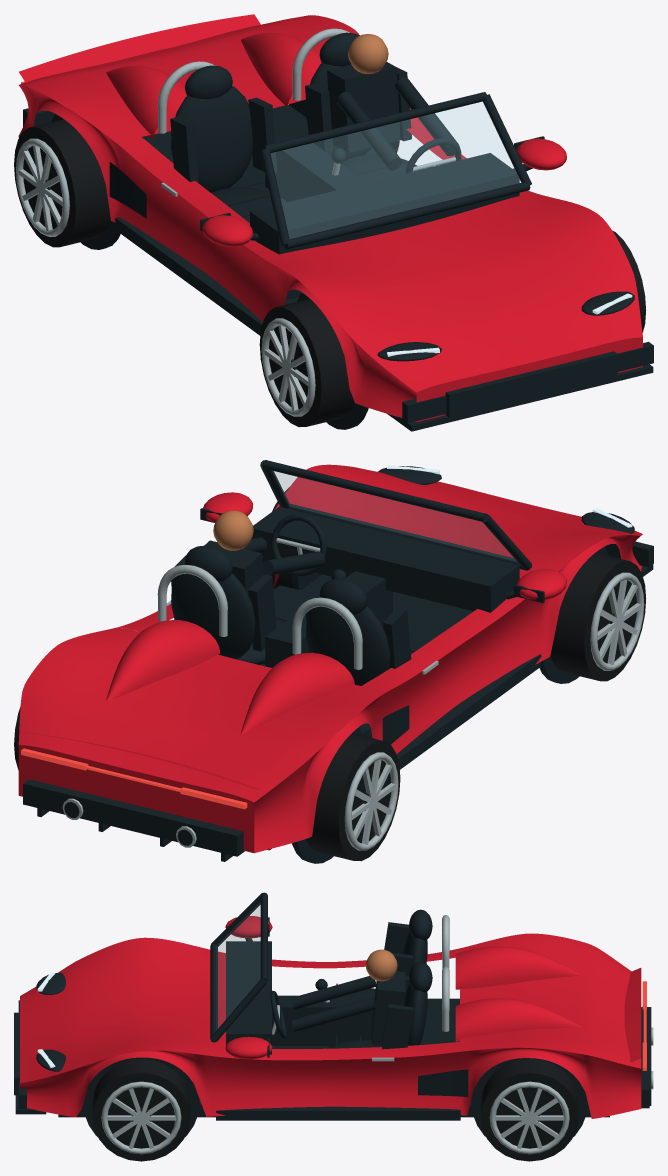
The model's file is roadster.candidate.inspection.glb.
3 renders of one model, top to bottom at view 1: azimuth 30°, elevation 25°; view 2: azimuth 150°, elevation 25°; view 3: azimuth 270°, elevation 25°, orthographic. The views are drawn at different scales.
Visible parts, largest first — view 1: roadster/paint, roadster/dark, roadster/glass, roadster/seat-upholstery, roadster/tire-rubber (×3), open-roadster, roadster/driver-clothing, roadster/metal, roadster/driver-skin; view 2: roadster/paint, roadster/dark, roadster/seat-upholstery, roadster/tire-rubber (×2), roadster/glass, open-roadster, roadster/metal, roadster/driver-clothing, roadster/tail, roadster/driver-skin; view 3: roadster/paint, roadster/dark, roadster/tire-rubber (×2), open-roadster, roadster/seat-upholstery, roadster/glass, roadster/driver-clothing, roadster/metal, roadster/driver-skin, roadster/tail.
Boxes of the visible parts, left/top/right/bottom form: roadster/paint: left=18, top=14, right=642, bottom=421; roadster/dark: left=23, top=92, right=653, bottom=431; roadster/glass: left=271, top=102, right=520, bottom=238; roadster/seat-upholstery: left=170, top=32, right=416, bottom=222; roadster/tire-rubber (×3): left=14, top=119, right=646, bottom=427; open-roadster: left=16, top=138, right=315, bottom=416; roadster/driver-clothing: left=327, top=61, right=460, bottom=170; roadster/metal: left=157, top=28, right=456, bottom=196; roadster/driver-skin: left=348, top=34, right=388, bottom=74; roadster/paint: left=18, top=464, right=642, bottom=853; roadster/dark: left=23, top=460, right=653, bottom=863; roadster/seat-upholstery: left=171, top=545, right=415, bottom=685; roadster/tire-rubber (×2): left=306, top=553, right=646, bottom=861; roadster/glass: left=272, top=471, right=516, bottom=561; open-roadster: left=344, top=572, right=644, bottom=850; roadster/metal: left=62, top=538, right=438, bottom=847; roadster/driver-clothing: left=204, top=537, right=325, bottom=594; roadster/tail: left=21, top=748, right=247, bottom=809; roadster/driver-skin: left=213, top=510, right=253, bottom=550; roadster/paint: left=20, top=915, right=641, bottom=1118; roadster/dark: left=14, top=892, right=651, bottom=1137; roadster/tire-rubber (×2): left=92, top=1058, right=578, bottom=1161; open-roadster: left=101, top=1081, right=569, bottom=1154; roadster/seat-upholstery: left=327, top=909, right=432, bottom=1049; roadster/glass: left=216, top=902, right=260, bottom=1029; roadster/driver-clothing: left=291, top=971, right=405, bottom=1045; roadster/metal: left=272, top=915, right=653, bottom=1089; roadster/driver-skin: left=365, top=949, right=397, bottom=981; roadster/tail: left=642, top=981, right=646, bottom=1070.
Bounding box in the file's own units: 2.32 × 1.44 × 4.58.
